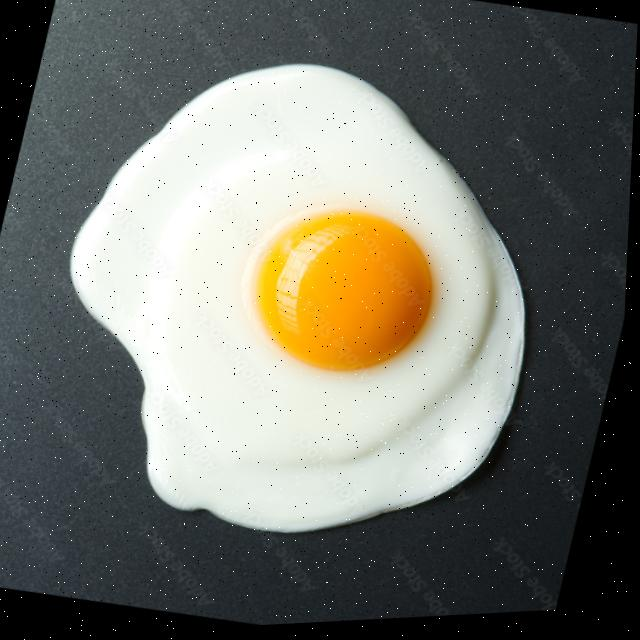Egg: (74, 67, 528, 535)
